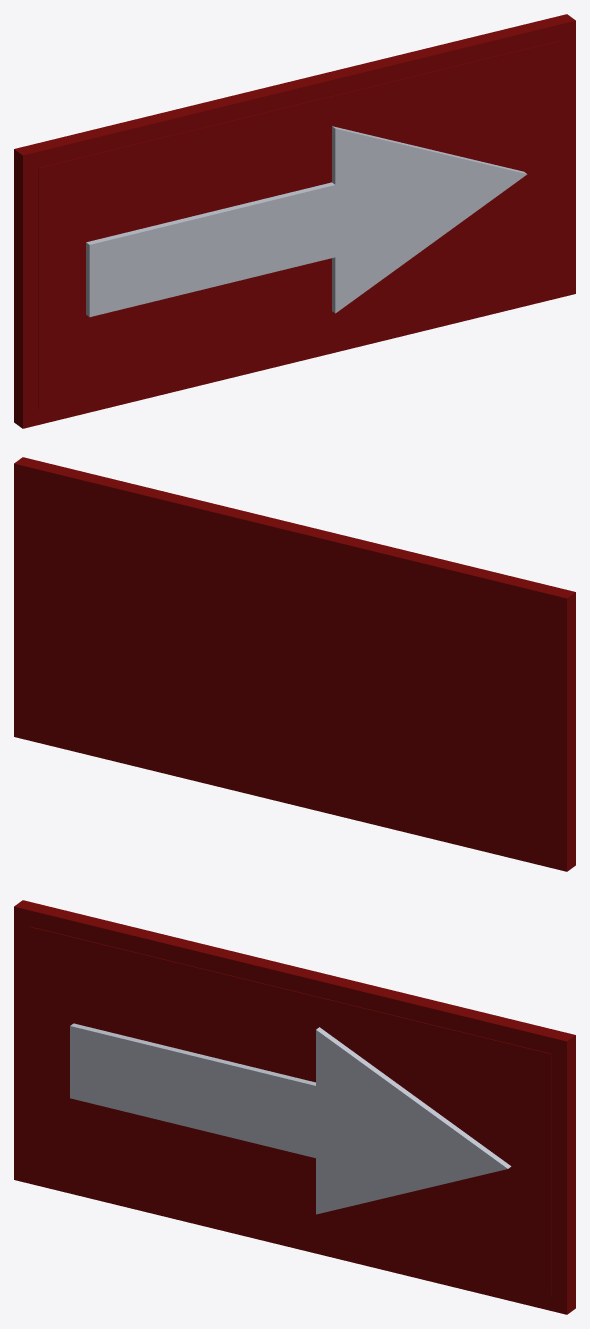
The model's file is SM_Sign_Arrow_Red.glb.
3 views of the same model, one above another, from view 1: azimuth 30°, elevation 25°; view 2: azimuth 150°, elevation 25°; view 3: azimuth 330°, elevation 25° (orthographic).
Parts seen in each view (by area): view 1: SM_Sign_Arrow_Red; view 2: SM_Sign_Arrow_Red; view 3: SM_Sign_Arrow_Red.
Part boxes in pixels (left/top/right/bottom): SM_Sign_Arrow_Red: left=14, top=14, right=575, bottom=428; SM_Sign_Arrow_Red: left=14, top=457, right=575, bottom=871; SM_Sign_Arrow_Red: left=14, top=900, right=575, bottom=1314.
Bounding box in the file's own units: 0.72 × 0.34 × 0.032.
